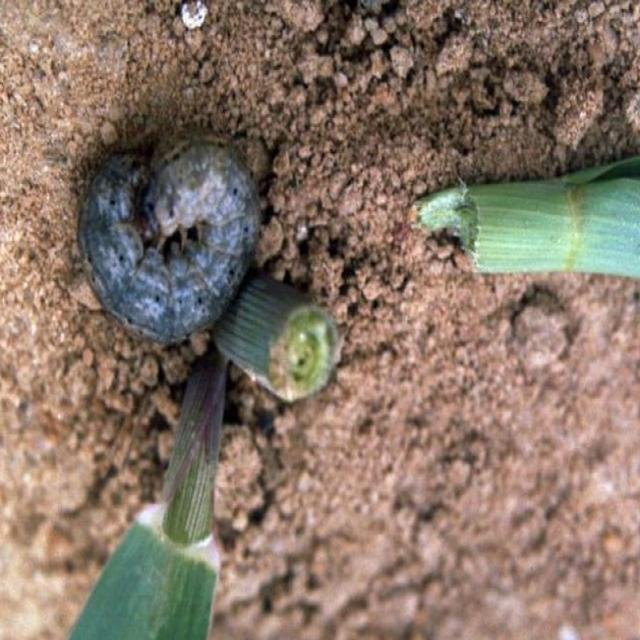black cutworm: (68, 136, 258, 346)
